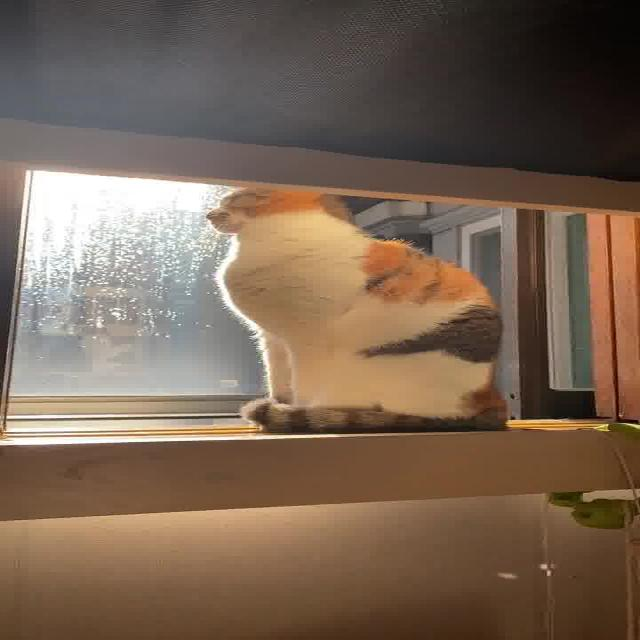cat: (167, 148, 533, 444)
